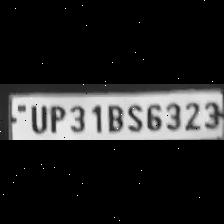1: (88, 102, 104, 134)
2: (182, 99, 200, 131)
3: (66, 102, 86, 134), (163, 100, 181, 132), (202, 98, 220, 130)
6: (144, 102, 162, 132)
B: (104, 102, 124, 134)
P: (46, 103, 66, 135)
S: (124, 102, 142, 132)
U: (27, 104, 47, 134)
